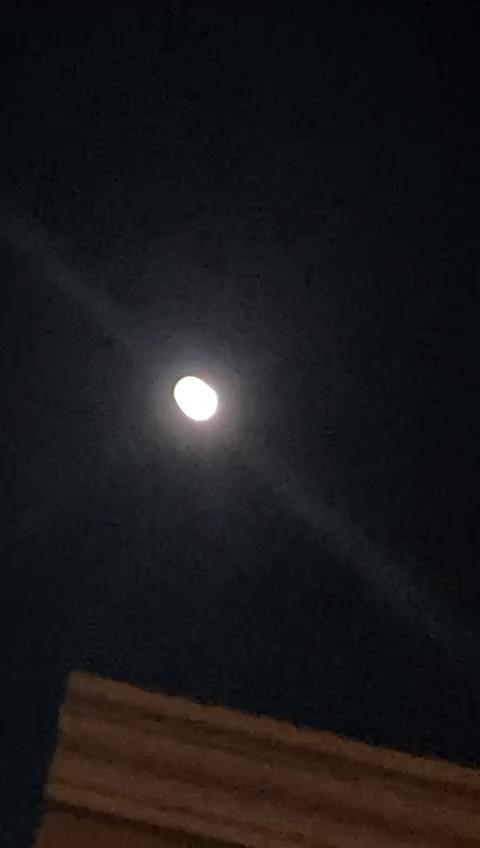moon: (160, 350, 228, 426)
